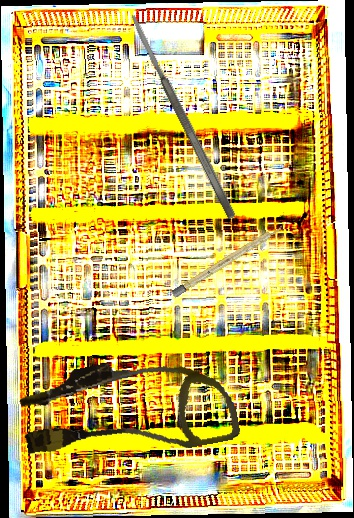Cannula: (14, 340, 242, 479)
Scalpel Handle: (170, 221, 287, 299)
Spatula Surgical: (127, 11, 238, 221)
